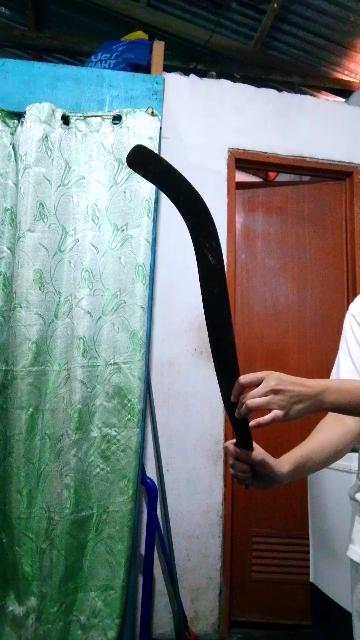long knife: (117, 142, 271, 498)
